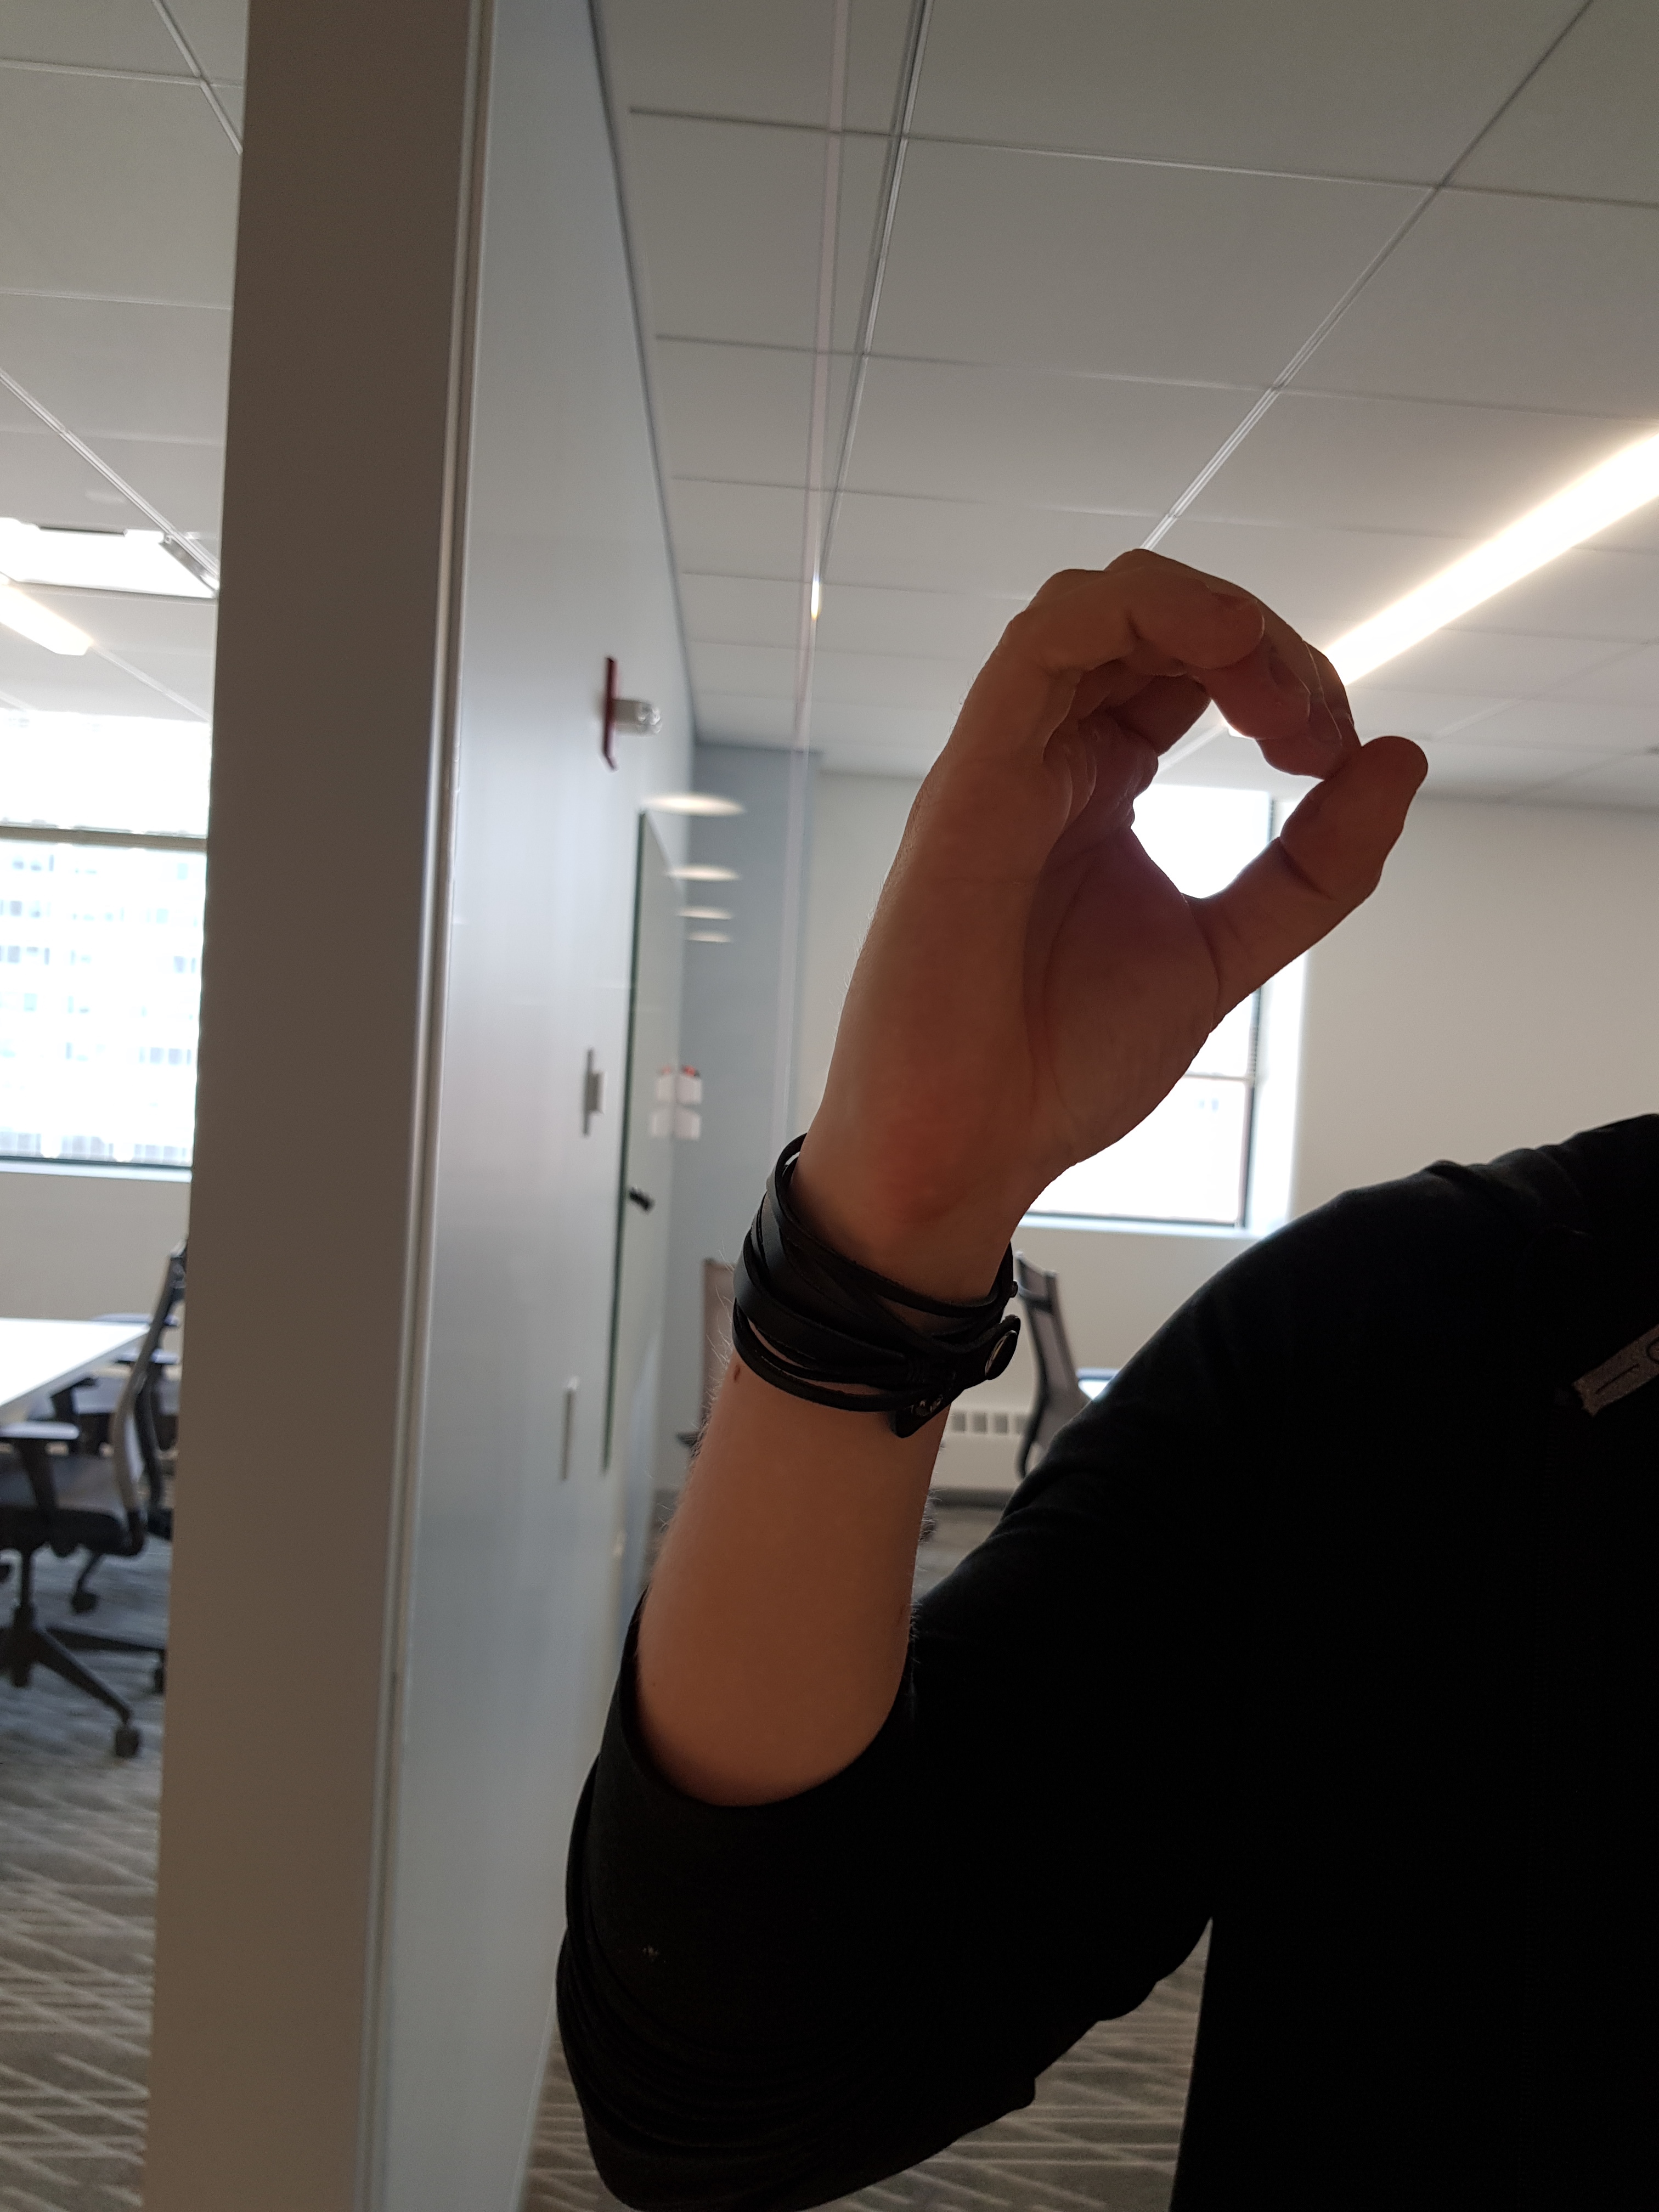o: (788, 503, 1450, 1244)
